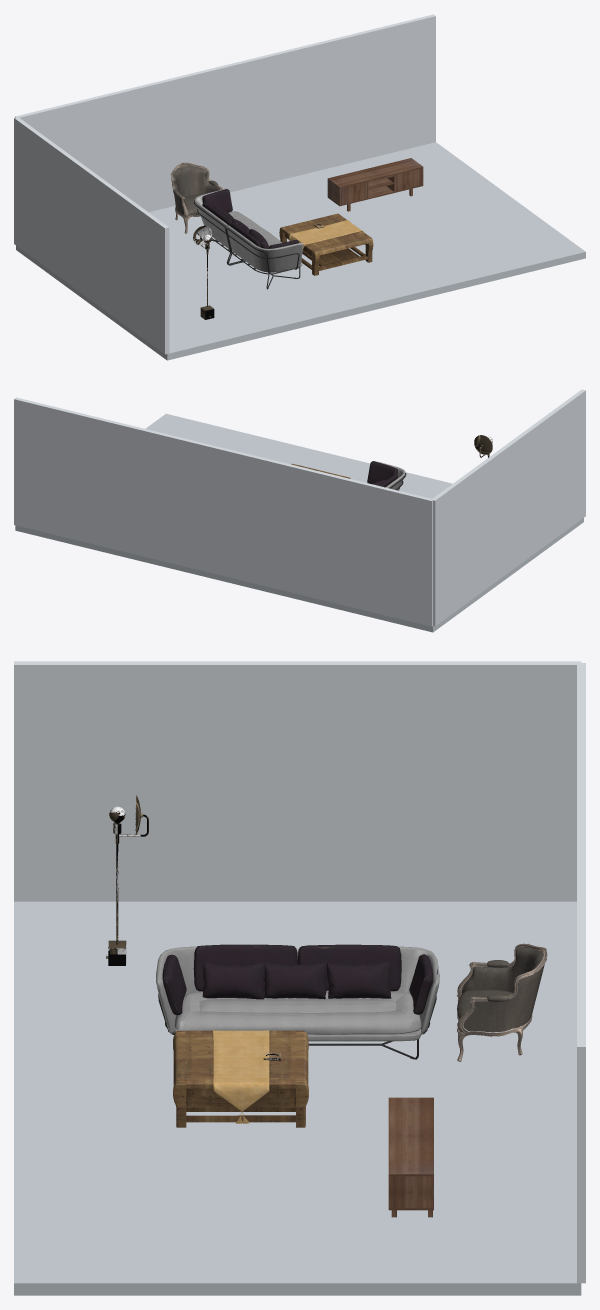
File: stage2.glb
3 views of the same model, one above another, from view 1: azimuth 30°, elevation 25°; view 2: azimuth 150°, elevation 25°; view 3: azimuth 270°, elevation 25° (orthographic). The views are drawn at different scales.
Visible parts, largest first — view 1: wall_back, Floor, wall_left, raw_model, raw_model.001, raw_model.002, raw_model.003, raw_model.004; view 2: wall_back, wall_left, Floor, raw_model, raw_model.004; view 3: Floor, wall_left, raw_model, raw_model.001, raw_model.003, wall_back, raw_model.002, raw_model.004.
Boxes of the visible parts, bbox=[...] form: wall_back: bbox=[15, 14, 435, 212]; Floor: bbox=[16, 142, 585, 360]; wall_left: bbox=[14, 117, 169, 354]; raw_model: bbox=[194, 188, 303, 289]; raw_model.001: bbox=[279, 213, 373, 275]; raw_model.002: bbox=[327, 158, 423, 211]; raw_model.003: bbox=[170, 162, 222, 233]; raw_model.004: bbox=[193, 225, 214, 319]; wall_back: bbox=[14, 397, 433, 626]; wall_left: bbox=[432, 389, 585, 626]; Floor: bbox=[15, 413, 583, 632]; raw_model: bbox=[367, 461, 406, 490]; raw_model.004: bbox=[474, 435, 492, 457]; Floor: bbox=[14, 901, 581, 1295]; wall_left: bbox=[14, 661, 581, 901]; raw_model: bbox=[156, 944, 439, 1059]; raw_model.001: bbox=[173, 1030, 308, 1127]; raw_model.003: bbox=[456, 943, 547, 1061]; wall_back: bbox=[577, 663, 585, 1283]; raw_model.002: bbox=[388, 1097, 433, 1217]; raw_model.004: bbox=[106, 795, 148, 965].
Bounding box in the file's own units: 8.04 × 2.42 × 5.04.
Materials: 7 (5 with a texture image).
